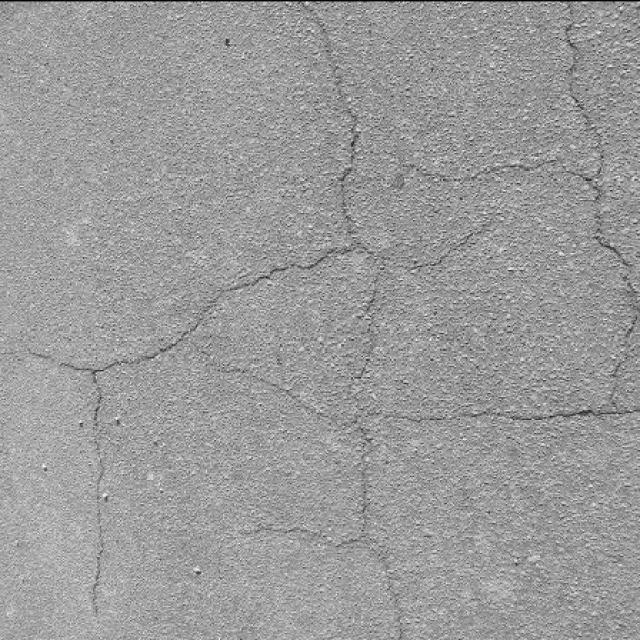Crack: (4, 1, 640, 640)
